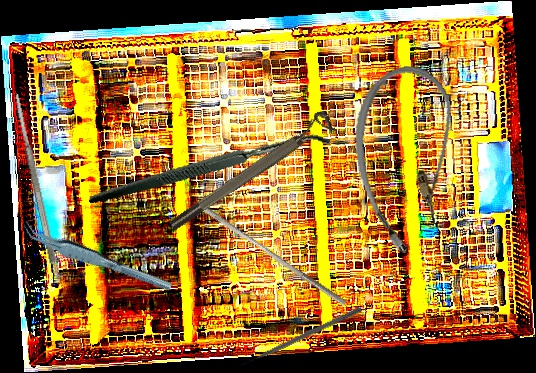Cannula: (344, 60, 473, 258)
Fixation Ring: (163, 108, 336, 234)
Hook Surgical: (89, 67, 336, 249)
Pusher: (196, 203, 351, 306), (239, 305, 363, 368)
Spatula Surgical: (12, 91, 58, 266)
Tissue Forceps: (19, 208, 174, 308)
